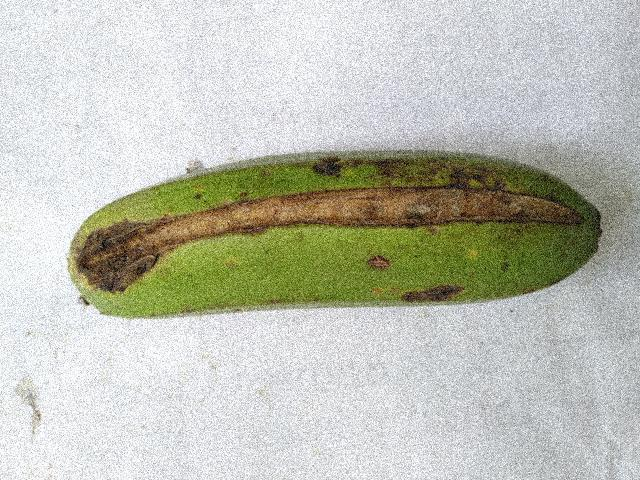rotten: (159, 171, 586, 250), (60, 183, 184, 307)
